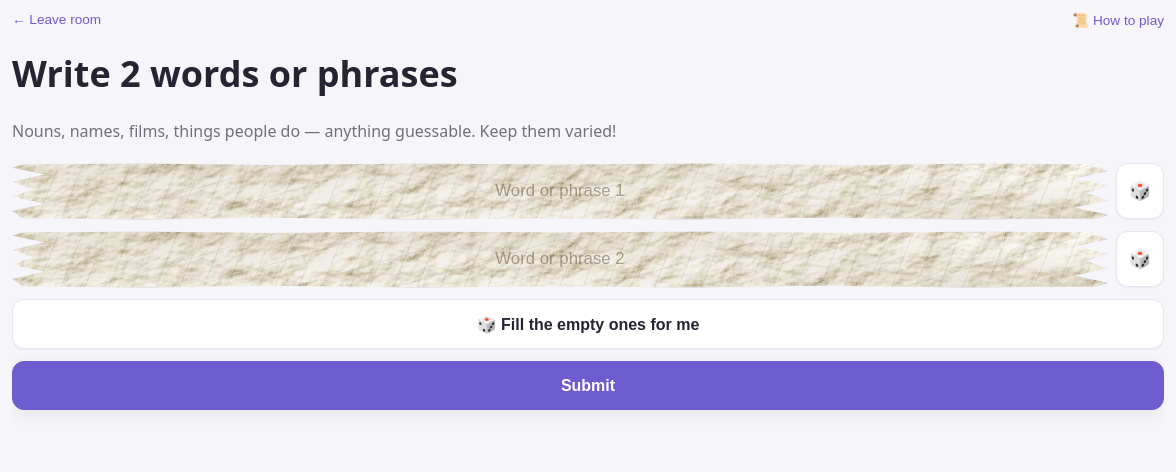
an empty slip is caught before the animation, not after it
In the field with placeholder "Word or phrase 1": (560, 191) [12,168,1108,215], type "Walrus"
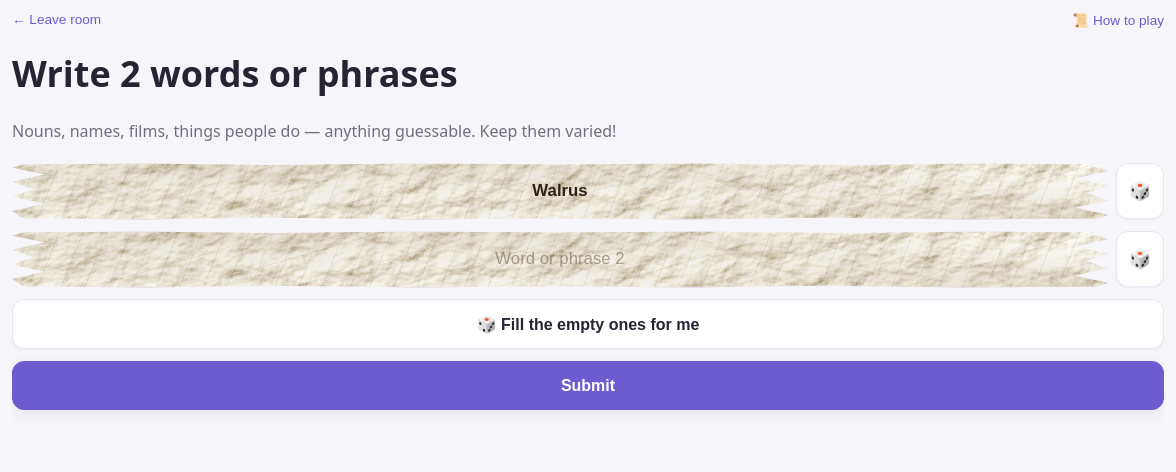
Click the button "Submit": (588, 386) [12,361,1164,410]
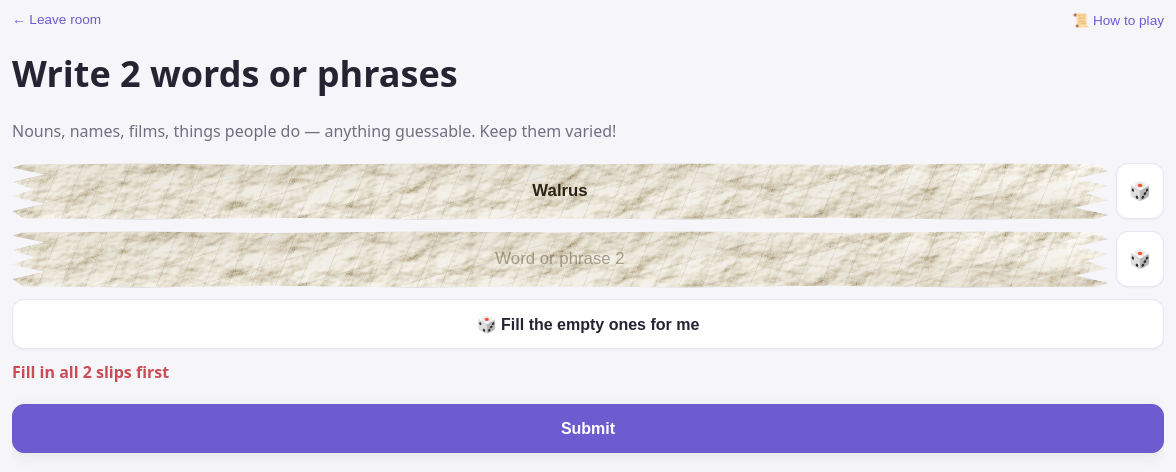
Now the text "Fill in all 2 slips first" is shown, box [12,361,169,383]
